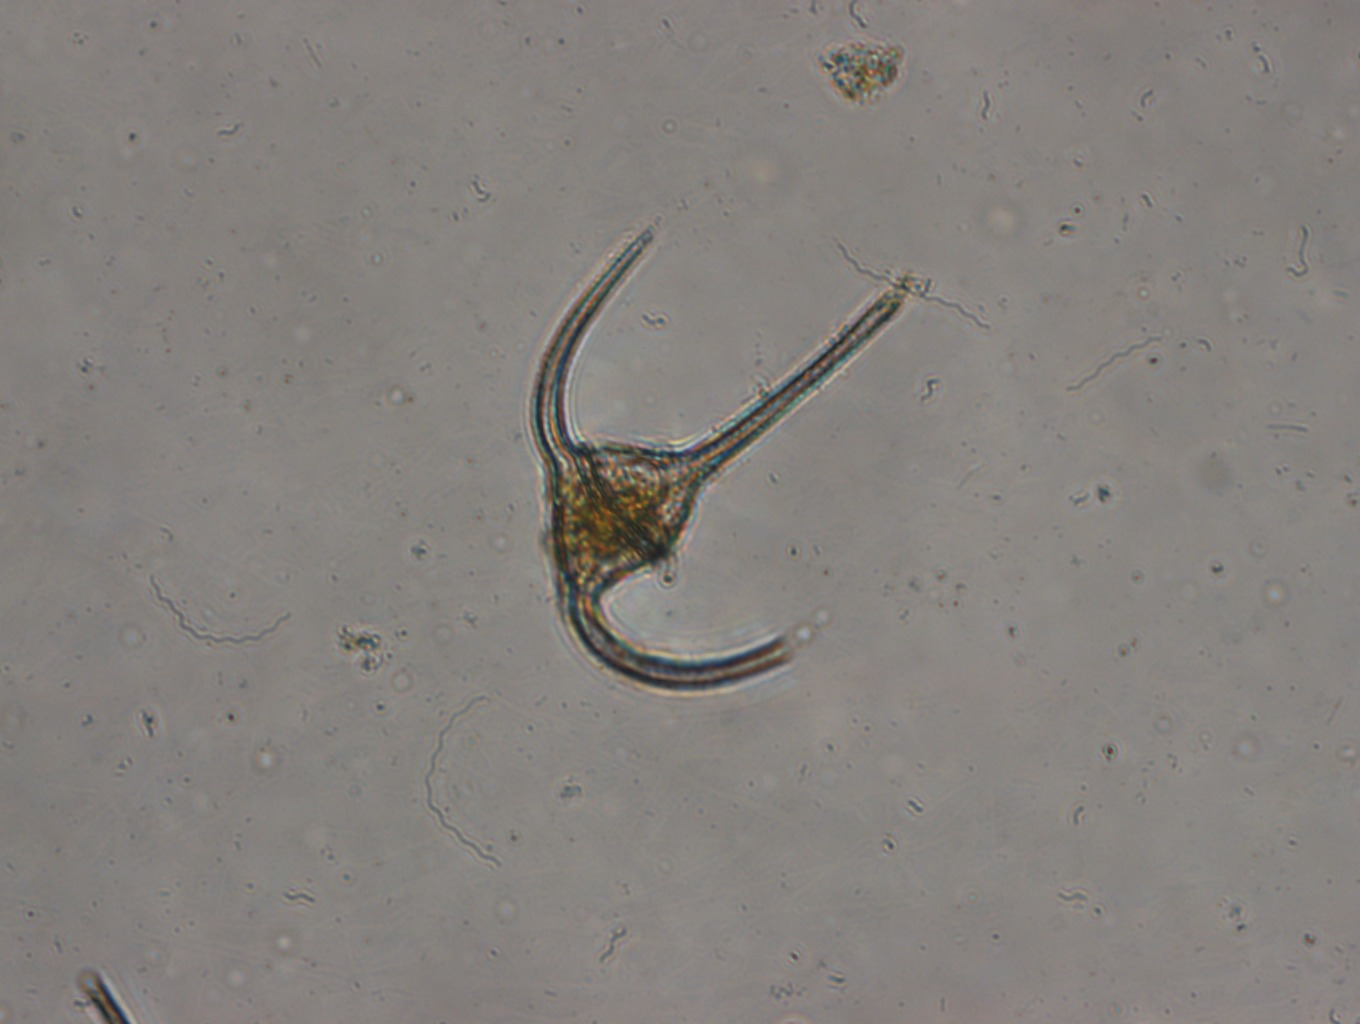ceratium trichoceros: (514, 214, 914, 703)
